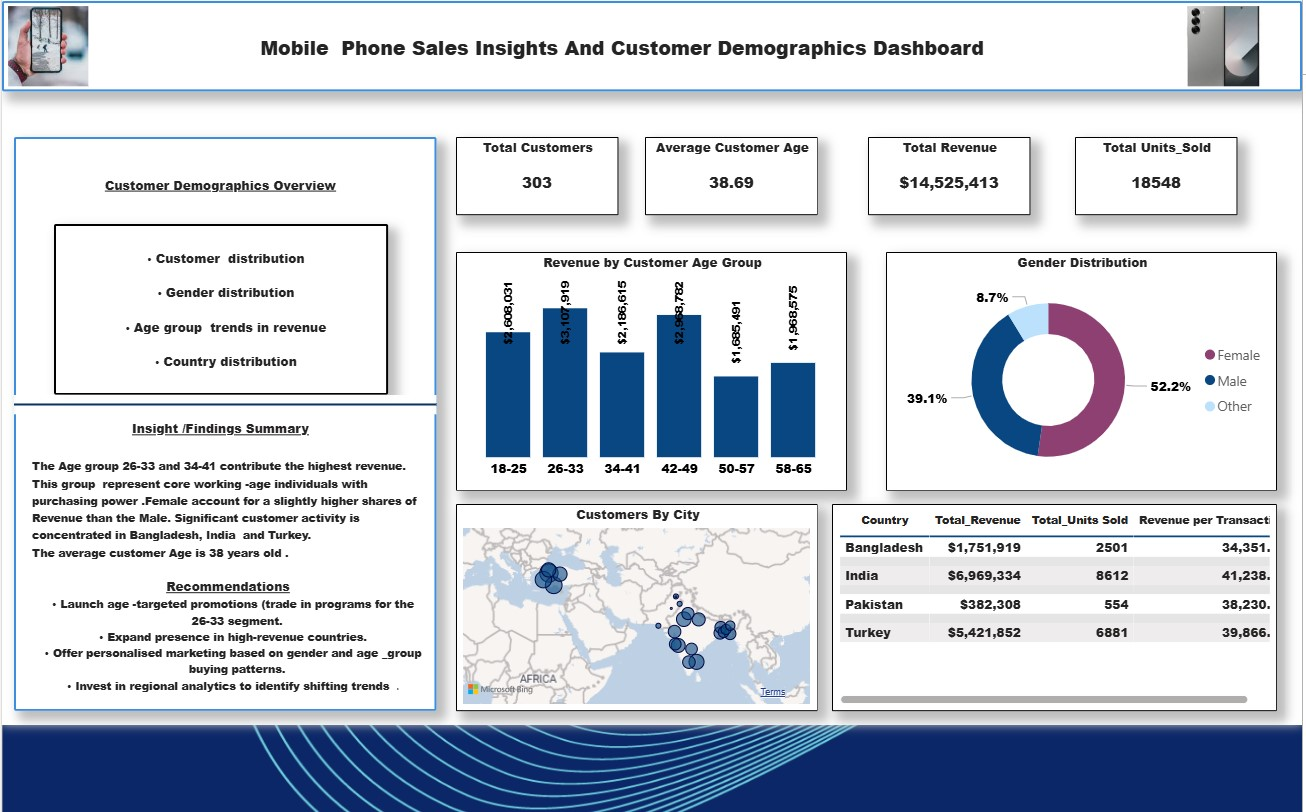

The page's visual inventory and layout, read from the dashboard file:
{"tool":"powerbi","page":{"name":"Page 1","canvas":[1280,720],"ordinal":0},"visuals":[{"type":"shape","box":[0,6.8,1280,88.5],"z":0},{"type":"image","box":[1124.4,6.9,155.6,88.6],"z":1000},{"type":"shape","box":[11.8,140.8,416.5,565.2],"z":2000},{"type":"textbox","box":[24.6,156.6,381,48.2],"z":3000},{"type":"textbox","box":[51.2,226.5,328.9,168.4],"z":4000},{"type":"shape","box":[11.8,394.8,416.5,18.7],"z":5000},{"type":"card","title":"Total Customers","fields":{"Values":["Measure.Number of Transactions"]},"box":[447,140.8,159.5,76.8],"z":6000},{"type":"card","title":"Average Customer Age","fields":{"Values":["Measure.Avarage Customer Age"]},"box":[633.1,140.8,170.3,76.8],"z":7000},{"type":"card","title":"Total Revenue","fields":{"Values":["Measure.Total_Revenue"]},"box":[852.7,140.8,159.5,76.8],"z":8000},{"type":"card","title":"Total Units_Sold","fields":{"Values":["Measure.Total_Units Sold"]},"box":[1056.5,140.8,159.5,76.8],"z":9000},{"type":"clusteredColumnChart","title":"Revenue by Customer Age Group","fields":{"Category":["Sales_Data.Customer_Age_Group"],"Y":["Measure.Total_Revenue"]},"box":[447,254,385,235.3],"z":10000},{"type":"donutChart","title":"Gender Distribution","fields":{"Y":["CountNonNull(Sales_Data.Transaction_ID)"],"Category":["Sales_Data.Customer_Gender"]},"box":[870.4,254,385,235.3],"z":11000},{"type":"map","title":"Customers By City","fields":{"Category":["Sales_Data.City"],"Size":["Measure.Number of Transactions"]},"box":[447,502.2,356.4,203.8],"z":12000},{"type":"tableEx","fields":{"Values":["Sales_Data.Country","Measure.Total_Revenue","Measure.Total_Units Sold","Measure.Revenue per Transaction"]},"box":[817.2,502.2,438.2,203.8],"z":13000},{"type":"textbox","box":[24.6,413.5,381,36.4],"z":14000},{"type":"textbox","box":[24.6,450,395.8,247.1],"z":15000},{"type":"image","box":[0,6.9,91.6,88.6],"z":16000},{"type":"textbox","box":[84.7,16.7,1051.6,67.9],"z":17000}]}

Visuals, with their boxes on the page's 1280x720 design canvas (x1, y1, x2, y2). These are canvas units, not pixel positions in the 1306x812 screenshot, which may show the page scaled, cropped or inside an application window:
shape: select_region(0, 7, 1280, 95)
image: select_region(1124, 7, 1280, 96)
shape: select_region(12, 141, 428, 706)
textbox: select_region(25, 157, 406, 205)
textbox: select_region(51, 226, 380, 395)
shape: select_region(12, 395, 428, 414)
"Total Customers" card: select_region(447, 141, 606, 218)
"Average Customer Age" card: select_region(633, 141, 803, 218)
"Total Revenue" card: select_region(853, 141, 1012, 218)
"Total Units_Sold" card: select_region(1056, 141, 1216, 218)
"Revenue by Customer Age Group" clusteredColumnChart: select_region(447, 254, 832, 489)
"Gender Distribution" donutChart: select_region(870, 254, 1255, 489)
"Customers By City" map: select_region(447, 502, 803, 706)
tableEx - Sales_Data.Country x Measure.Total_Revenue: select_region(817, 502, 1255, 706)
textbox: select_region(25, 414, 406, 450)
textbox: select_region(25, 450, 420, 697)
image: select_region(0, 7, 92, 96)
textbox: select_region(85, 17, 1136, 85)
